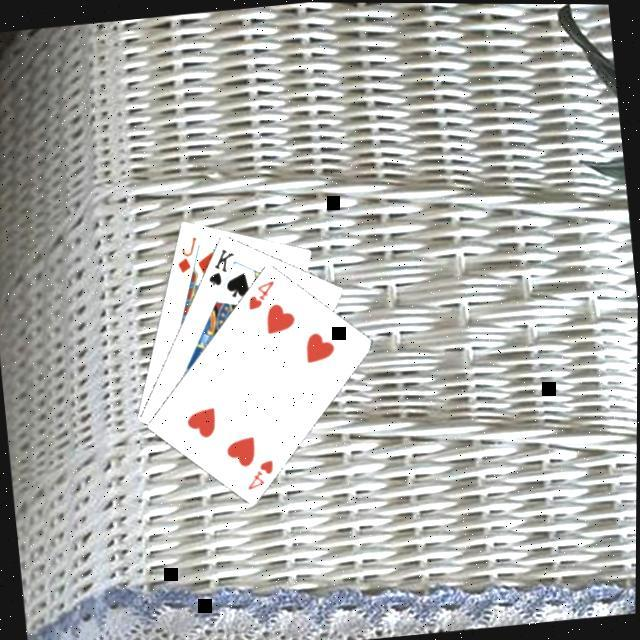4H: (244, 456, 282, 494), (244, 277, 282, 314)
JD: (173, 234, 206, 276)
KS: (204, 245, 242, 290)
